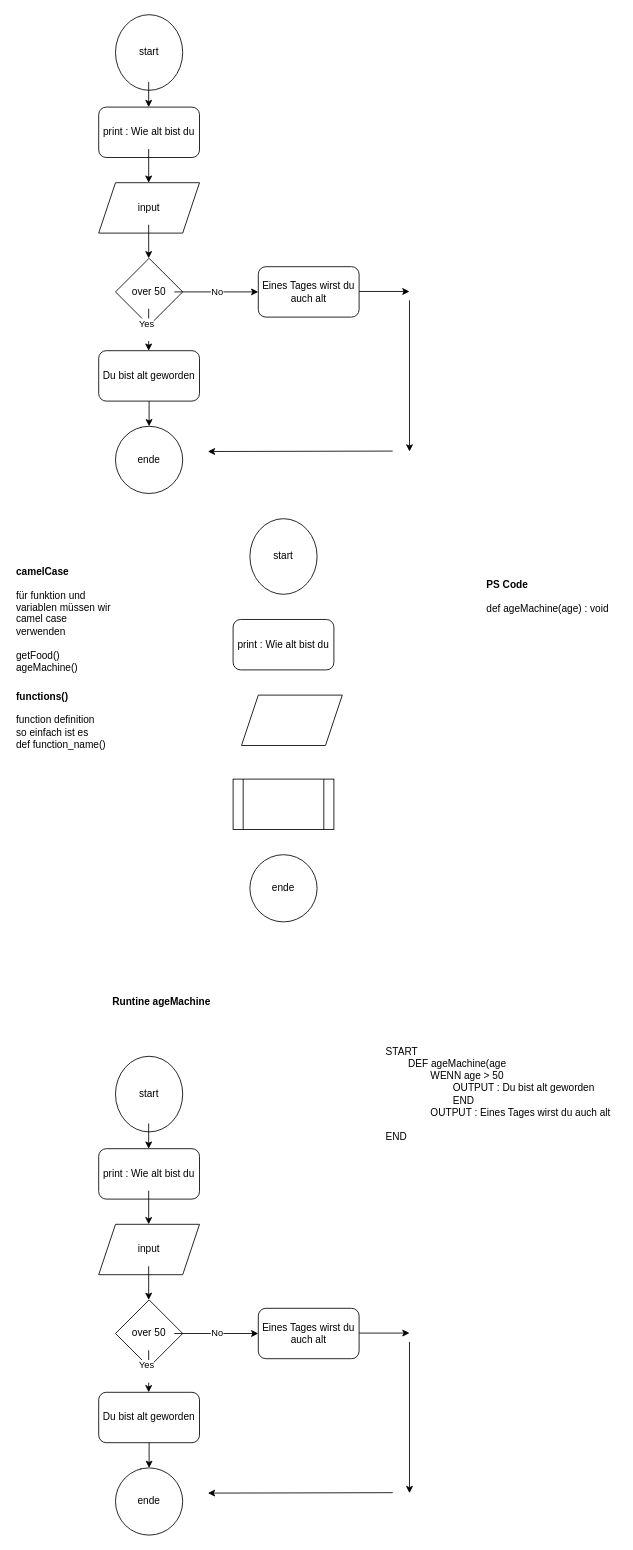
This 633x1550 diagram has some shape labels left out. The shapes that lost their labels are listed below. From the top down, each one's box as (x1, y1, x2, y2) in pixels, then its label:
(241, 694, 342, 746): input: age
(232, 778, 334, 830): ageMachine
